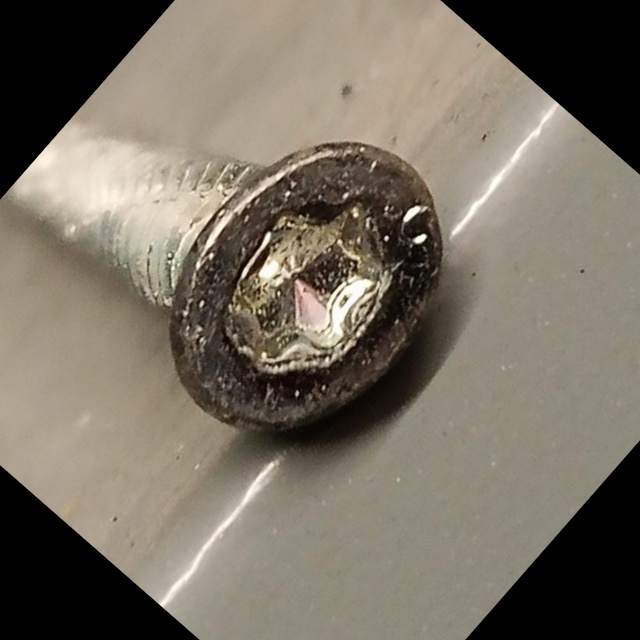torx: (113, 89, 506, 491)
